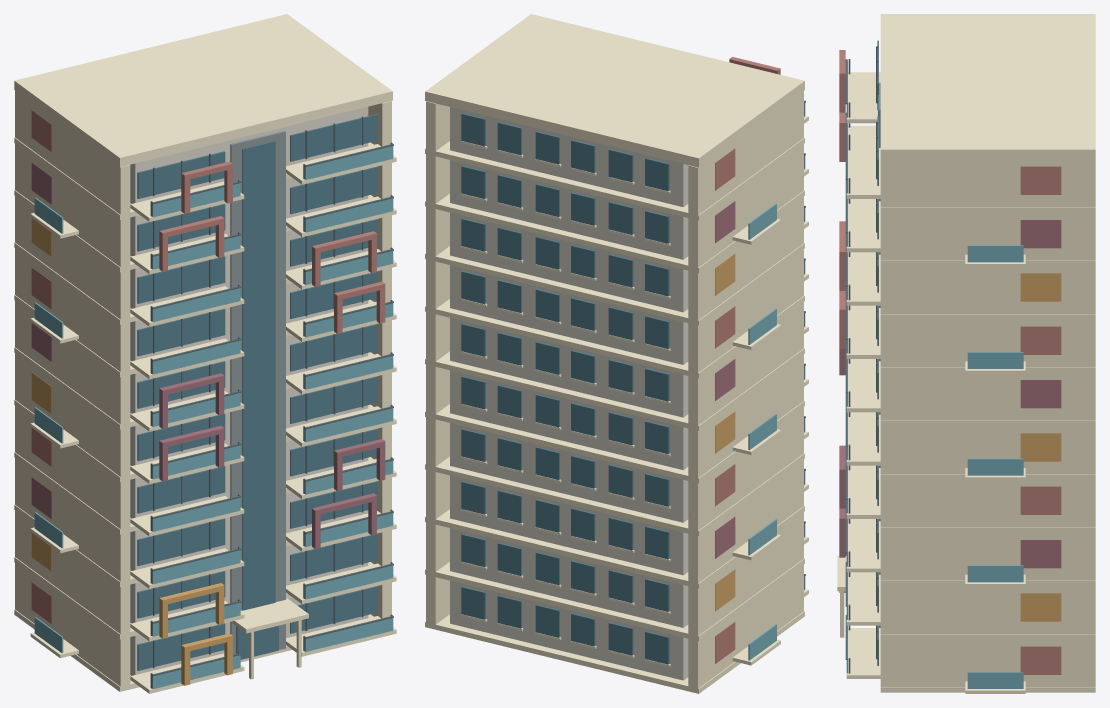
The model's file is tower_10_storeys.glb.
3 views of the same model, side by side, from view 1: azimuth 30°, elevation 25°; view 2: azimuth 150°, elevation 25°; view 3: azimuth 270°, elevation 25° (orthographic).
Parts seen in each view (by area): view 1: GEO-outer fin, GEO-roof parapet, GEO-stair / central glazing strip, GEO-tower structural mass, GEO-central deep shadow spine, GEO-outer fin.001, GEO-window ribbon.012, GEO-window ribbon.004, GEO-window ribbon.006, GEO-window ribbon.014, GEO-window ribbon.019, GEO-window ribbon.017 (+68 smaller); view 2: GEO-tower structural mass, GEO-outer fin, GEO-roof parapet, GEO-outer fin.001, GEO-floor slab.009, GEO-floor slab.005, GEO-floor slab.007, GEO-floor slab.003, GEO-floor slab.001, GEO-floor slab.008, GEO-floor slab, GEO-floor slab.004 (+72 smaller); view 3: GEO-outer fin.001, GEO-roof parapet, GEO-balcony slab.005, GEO-balcony slab.011, GEO-balcony slab.017, GEO-balcony slab.003, GEO-balcony slab.009, GEO-balcony slab.015, GEO-balcony slab.001, GEO-balcony slab.007, GEO-balcony slab.013, GEO-balcony slab.019 (+30 smaller).
Boxes of the visible parts, x1,y1,x2,y2 form: GEO-outer fin: (15,90,130,691); GEO-roof parapet: (14,14,392,166); GEO-stair / central glazing strip: (242,141,275,610); GEO-tower structural mass: (130,106,368,675); GEO-central deep shadow spine: (230,131,285,654); GEO-outer fin.001: (368,101,391,618); GEO-window ribbon.012: (137,308,225,356); GEO-window ribbon.004: (137,518,225,565); GEO-window ribbon.006: (137,466,225,513); GEO-window ribbon.014: (137,256,225,303); GEO-window ribbon.019: (290,114,377,161); GEO-window ribbon.017: (290,166,377,214); GEO-tower structural mass: (450,107,688,680); GEO-outer fin: (688,91,803,693); GEO-roof parapet: (425,14,804,167); GEO-outer fin.001: (426,101,449,629); GEO-floor slab.009: (425,138,804,220); GEO-floor slab.005: (425,348,804,430); GEO-floor slab.007: (425,243,804,325); GEO-floor slab.003: (425,453,804,535); GEO-floor slab.001: (425,558,804,641); GEO-floor slab.008: (425,190,804,273); GEO-floor slab: (425,611,804,693); GEO-floor slab.004: (425,401,804,483); GEO-outer fin.001: (880,159,1095,687); GEO-roof parapet: (880,14,1095,158); GEO-balcony slab.005: (846,521,880,572); GEO-balcony slab.011: (846,361,880,412); GEO-balcony slab.017: (846,201,880,252); GEO-balcony slab.003: (846,574,880,625); GEO-balcony slab.009: (846,414,880,465); GEO-balcony slab.015: (846,254,880,305); GEO-balcony slab.001: (846,628,880,678); GEO-balcony slab.007: (846,468,880,518); GEO-balcony slab.013: (846,308,880,358); GEO-balcony slab.019: (846,148,880,198).
Bounding box in the file's own units: 19.24 × 31.78 × 13.69.
